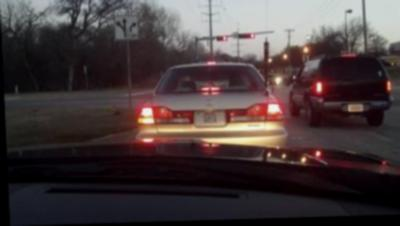License_Plate: (193, 107, 228, 126)
